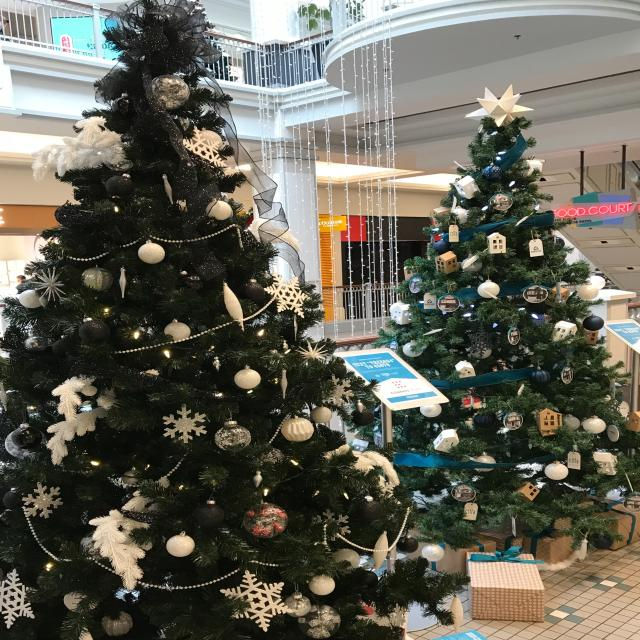Christmas-tree: (0, 9, 306, 640)
